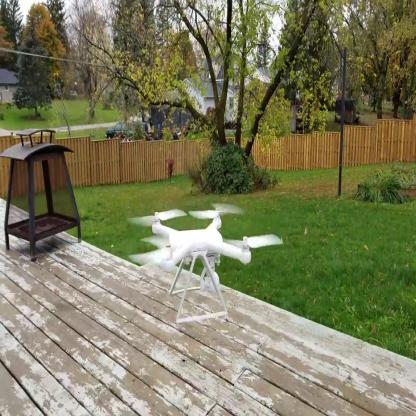drone: (118, 194, 286, 294)
